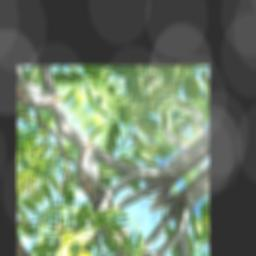Cuckoo: (60, 138, 125, 211)
